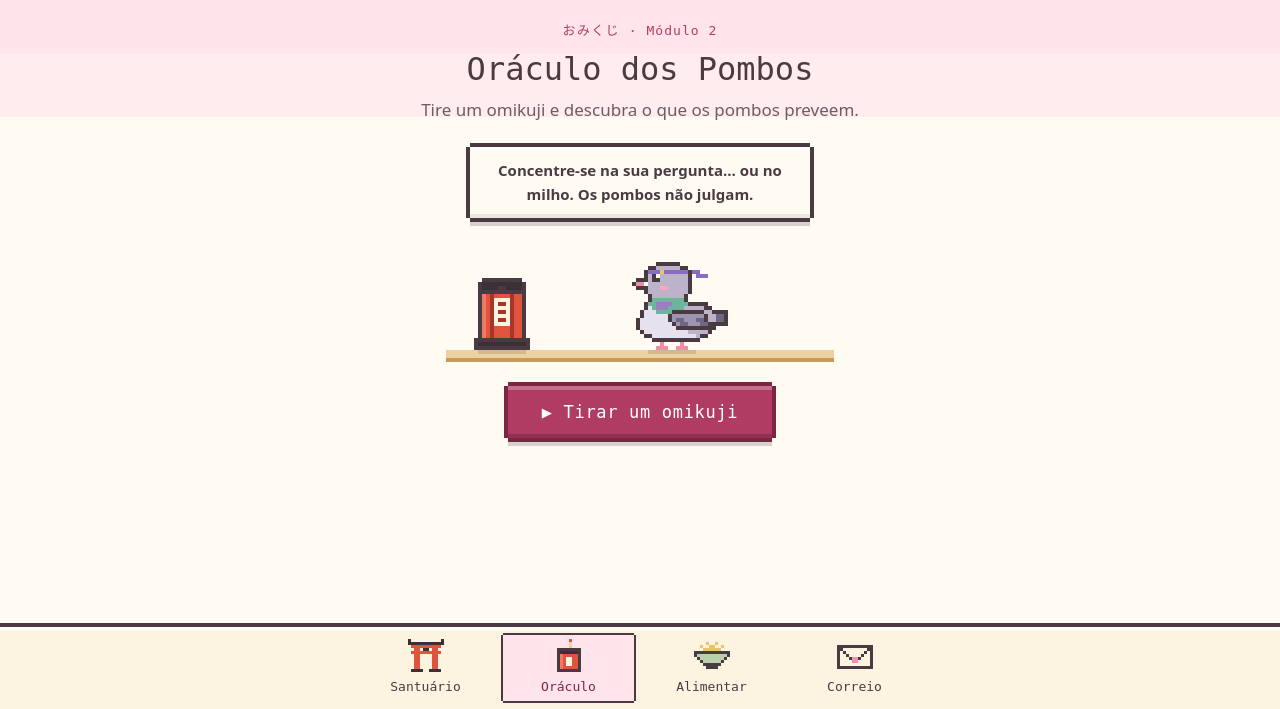
Test: Oráculo dos Pombos › previsão de má sorte (凶) é fofa: azul calmo, sem alarme, com aviso brincalhão
The width and height of the screenshot is (1280, 709).
Click the button "▶ Tirar um omikuji" at [640, 412], box [508, 386, 772, 438]
(page scrolled)
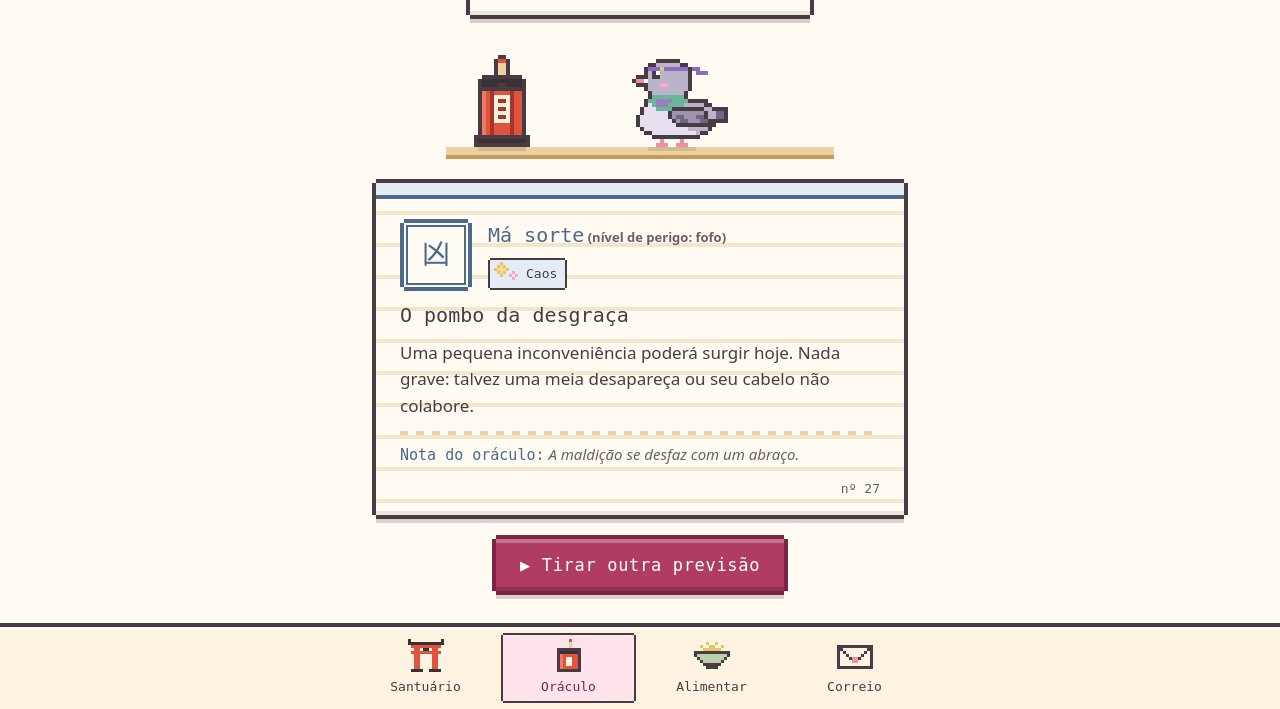
expect the element that starts with "Má sorte" is shown: met, box [488, 223, 584, 247]
expect the element that starts with "Má sorte" shows "nível de perigo: fofo": met, box [584, 228, 726, 246]
